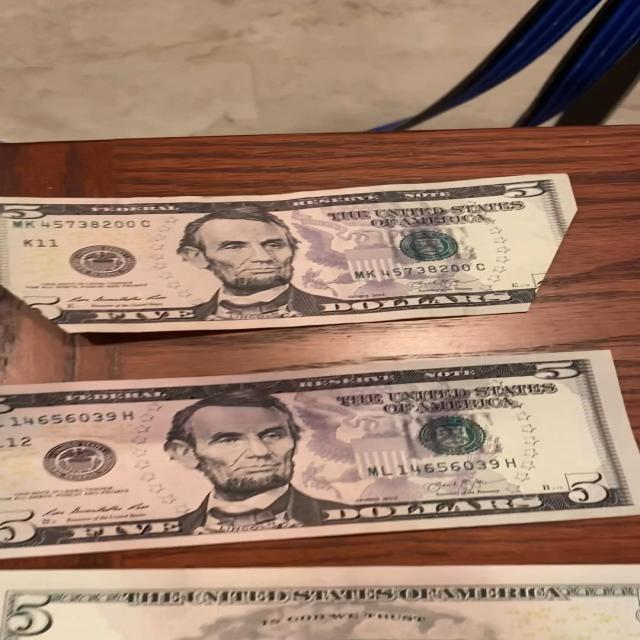1-Back: (1, 568, 640, 640)
5-Front: (0, 348, 640, 565), (0, 170, 576, 336)
